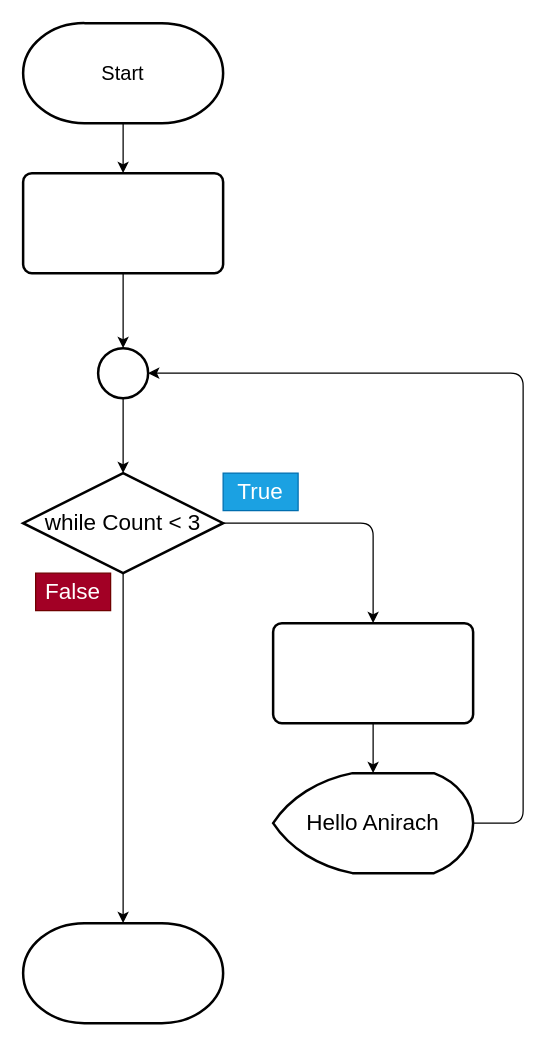
Image size: 555x1045. Some labels were removed from this diagram. Each missing label, with the centre of its shape:
"Count += 1" goes at (x=372, y=672).
"Count = 0" goes at (x=122, y=222).
"End" goes at (x=122, y=972).
